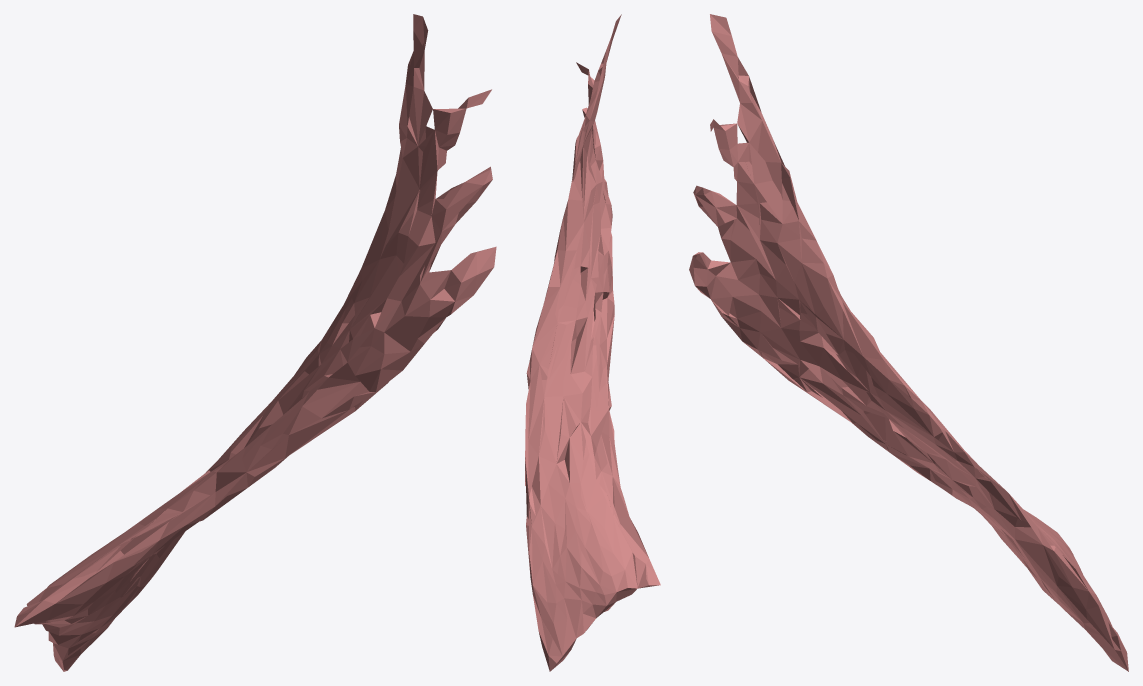
The model's file is Levator_scapulae.r.glb.
The picture shows the model from 3 angles, left to right: view 1: azimuth 30°, elevation 25°; view 2: azimuth 150°, elevation 25°; view 3: azimuth 270°, elevation 25°; orthographic projection. The views are drawn at different scales.
Parts seen in each view (by area): view 1: Levator_scapulae.r; view 2: Levator_scapulae.r; view 3: Levator_scapulae.r.
Part boxes in pixels (x1=…): Levator_scapulae.r: x1=14, y1=14, x2=496, y2=671; Levator_scapulae.r: x1=525, y1=14, x2=660, y2=671; Levator_scapulae.r: x1=689, y1=14, x2=1128, y2=671.
Bounding box in the file's own units: 0.0596 × 0.1494 × 0.0836.
